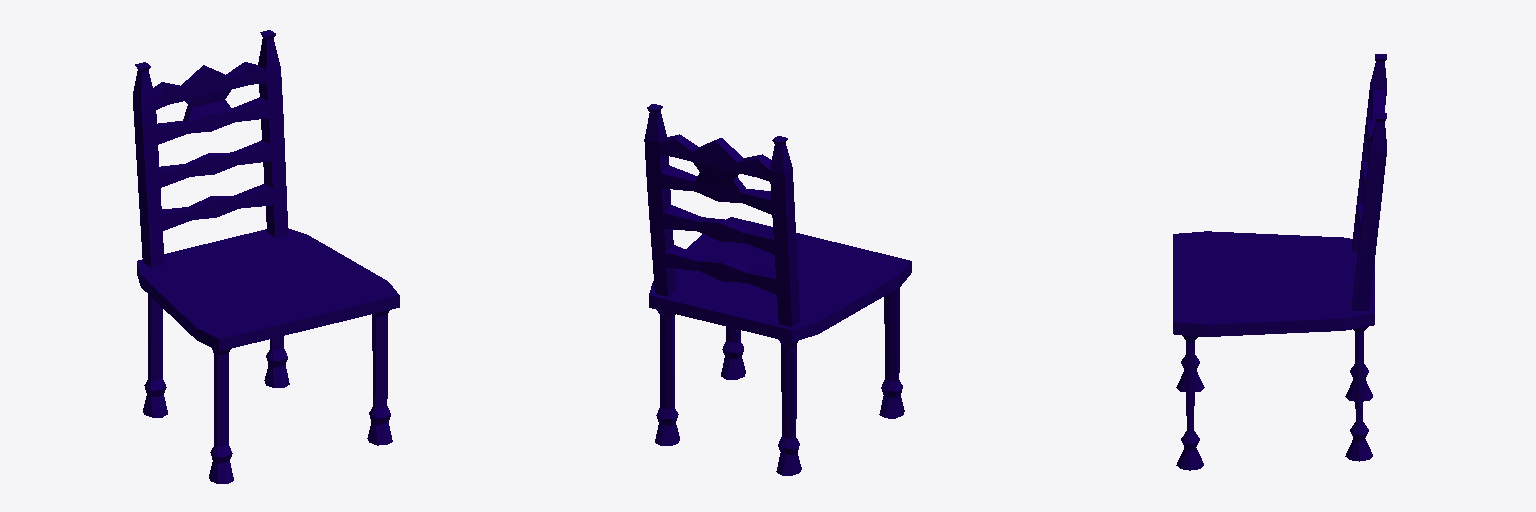
Rendered from chair_model.obj.
The picture shows the model from 3 angles: view 1: azimuth 30°, elevation 25°; view 2: azimuth 150°, elevation 25°; view 3: azimuth 270°, elevation 25°; orthographic projection.
Parts seen in each view (by area): view 1: chair; view 2: chair; view 3: chair.
Part boxes in pixels (x1,y1,x2,y2): chair: (133, 30, 399, 483); chair: (644, 104, 911, 475); chair: (1173, 54, 1386, 470).
Size of the model in its own units: 4.83 by 8.22 by 4.67.